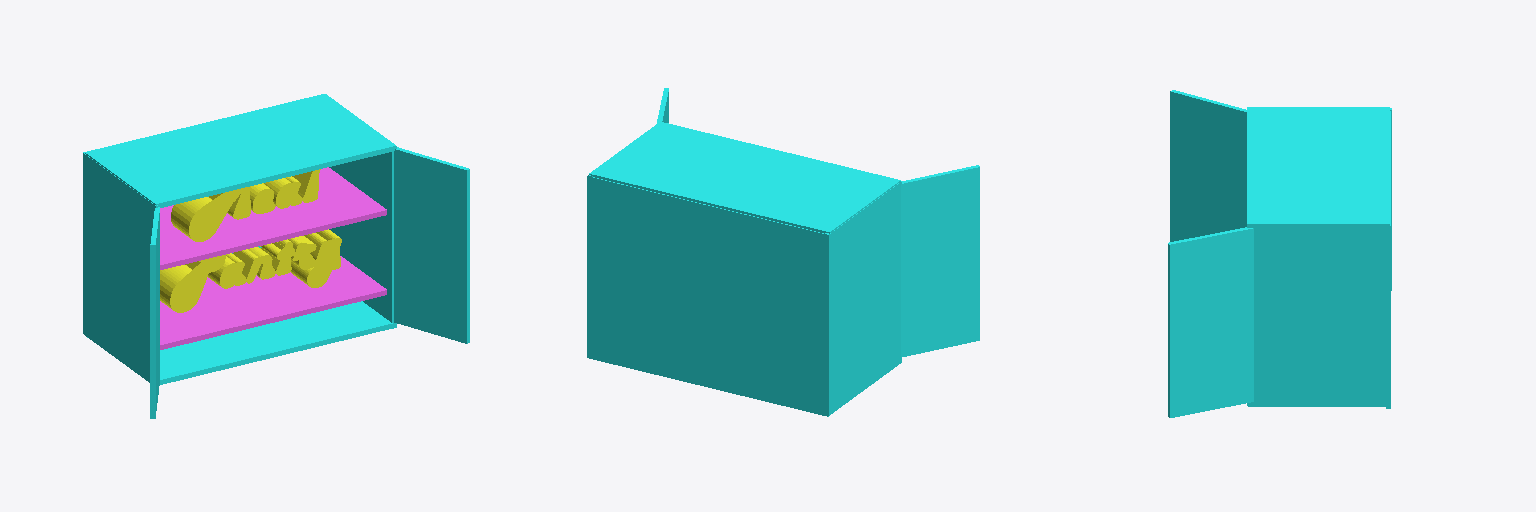
The model's file is shelf2.obj.
3 views of the same model, side by side, from view 1: azimuth 30°, elevation 25°; view 2: azimuth 150°, elevation 25°; view 3: azimuth 270°, elevation 25° (orthographic).
Parts seen in each view (by area): view 1: pasted__pCube1 group3, pasted__pCube4 group4, pCube3, typeMesh1, pasted__pCube1 group1, pasted__pCube1 group2, pCube1, pasted__pCube3 group, pCube4; view 2: pCube2, pasted__pCube1 group3, pCube4, pCube3; view 3: pasted__pCube3 group, pasted__pCube1 group3, pasted__pCube4 group4, pCube4, pCube2.
Part boxes in pixels (x1,y1,x2,y2): pasted__pCube1 group3: (85, 94, 396, 207); pasted__pCube4 group4: (394, 147, 469, 343); pCube3: (83, 152, 159, 382); typeMesh1: (160, 169, 341, 312); pasted__pCube1 group1: (160, 256, 386, 349); pasted__pCube1 group2: (160, 167, 386, 269); pCube1: (160, 301, 396, 384); pasted__pCube3 group: (329, 151, 393, 328); pCube4: (150, 207, 159, 418); pCube2: (587, 176, 828, 416); pasted__pCube1 group3: (589, 122, 900, 233); pCube4: (901, 165, 979, 357); pCube3: (825, 181, 901, 415); pasted__pCube3 group: (1248, 224, 1390, 406); pasted__pCube1 group3: (1247, 107, 1389, 227); pasted__pCube4 group4: (1168, 227, 1253, 417); pCube4: (1170, 90, 1246, 241); pCube2: (1386, 111, 1390, 408).
Size of the model in its own units: 25.15 by 13.93 by 15.4.